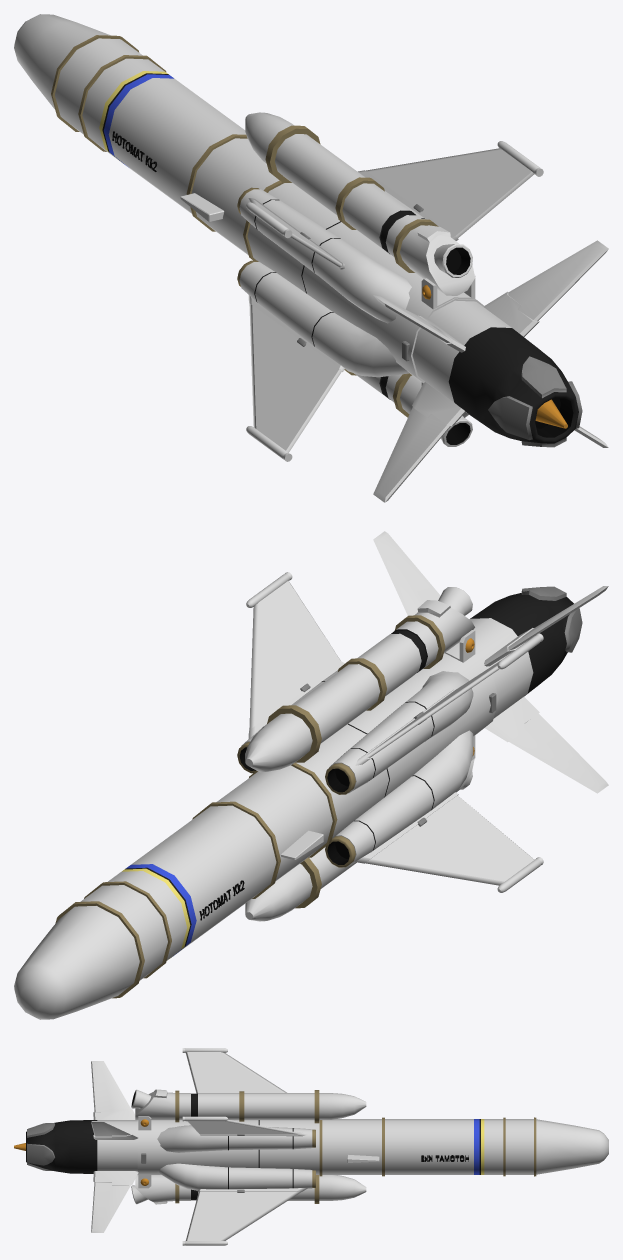
The model's file is HotomatKK2.FBX.
3 renders of one model, top to bottom at view 1: azimuth 30°, elevation 25°; view 2: azimuth 150°, elevation 25°; view 3: azimuth 270°, elevation 25°, orthographic. The views are drawn at different scales.
Parts seen in each view (by area): view 1: HOTOMAT; view 2: HOTOMAT; view 3: HOTOMAT.
Boxes of the visible parts, x1,y1,x2,y2 form: HOTOMAT: (14, 14, 608, 502); HOTOMAT: (14, 531, 608, 1019); HOTOMAT: (14, 1048, 608, 1245).
Bounding box in the file's own units: 67.97 × 58.09 × 243.
